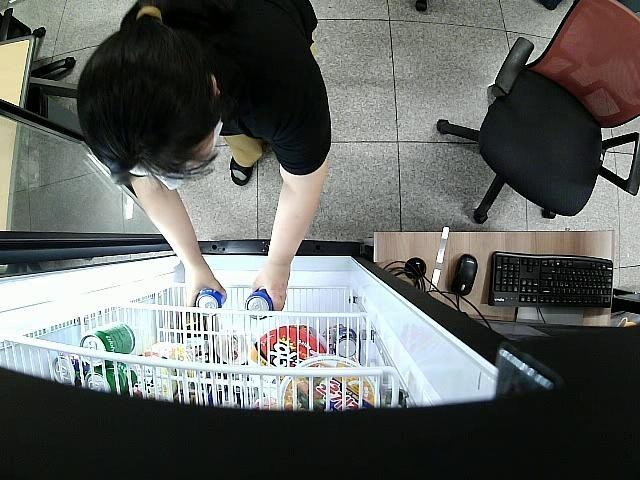13_pocariSweat: (244, 288, 274, 320), (195, 289, 226, 316)
